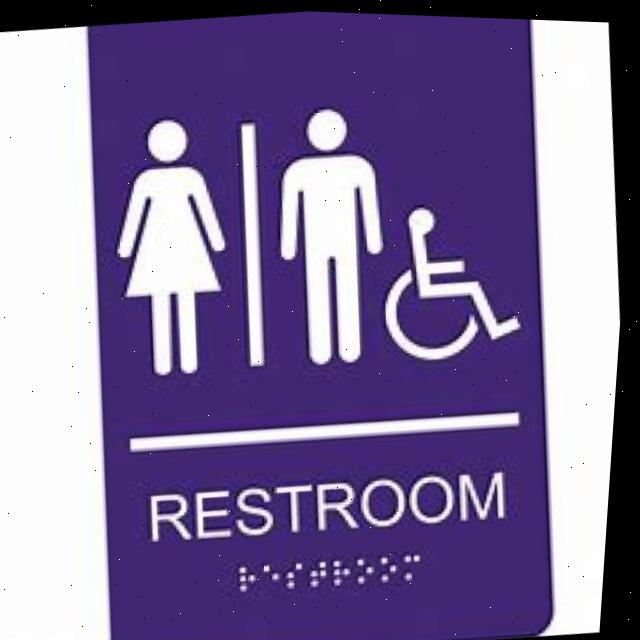symbol_of_access: (377, 188, 537, 364)
